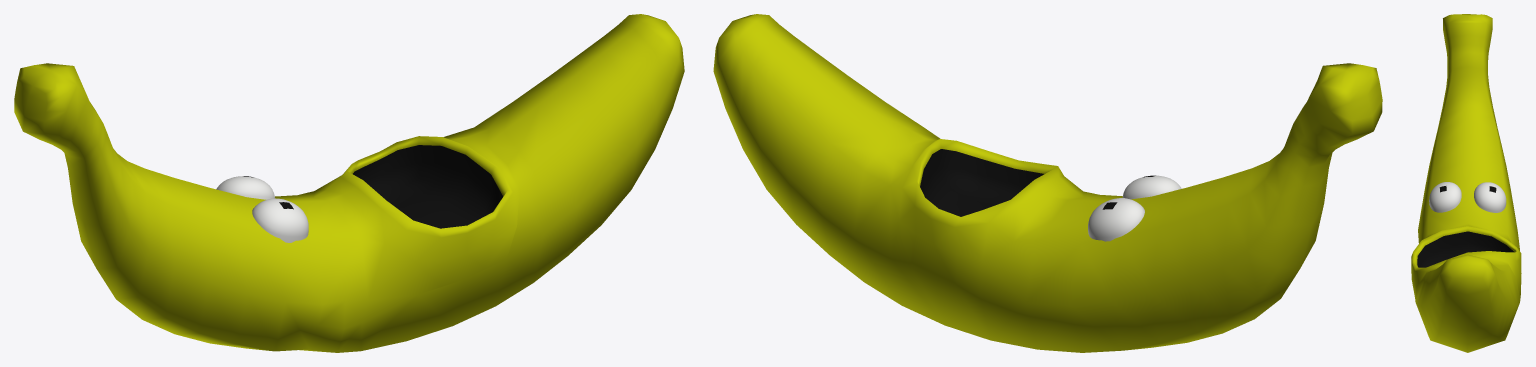
Rendered from BananaDamage1.fbx.
3 renders of one model, left to right at view 1: azimuth 30°, elevation 25°; view 2: azimuth 150°, elevation 25°; view 3: azimuth 270°, elevation 25°, orthographic. The views are drawn at different scales.
Visible parts, largest first — view 1: pCube5; view 2: pCube5; view 3: pCube5.
Boxes of the visible parts, x1,y1,x2,y2 form: pCube5: (14,14,684,352); pCube5: (713,14,1382,352); pCube5: (1411,14,1521,352).
Size of the model in its own units: 1.77 by 0.8901 by 0.4139.
